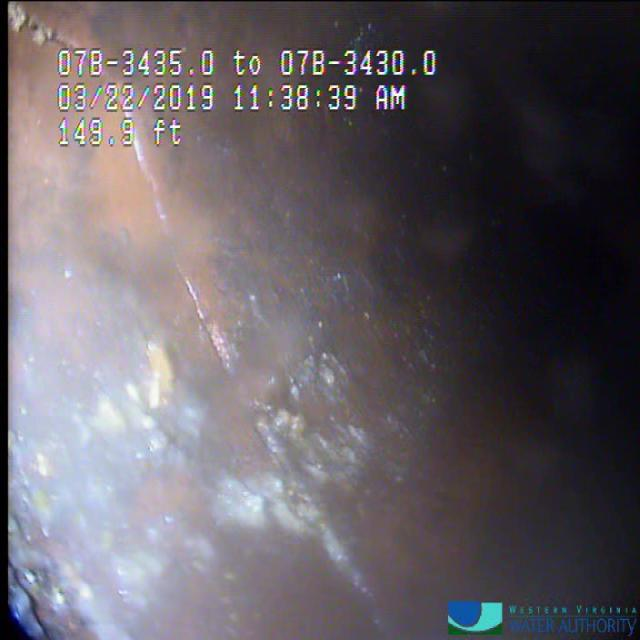Crack: (134, 180, 338, 483)
